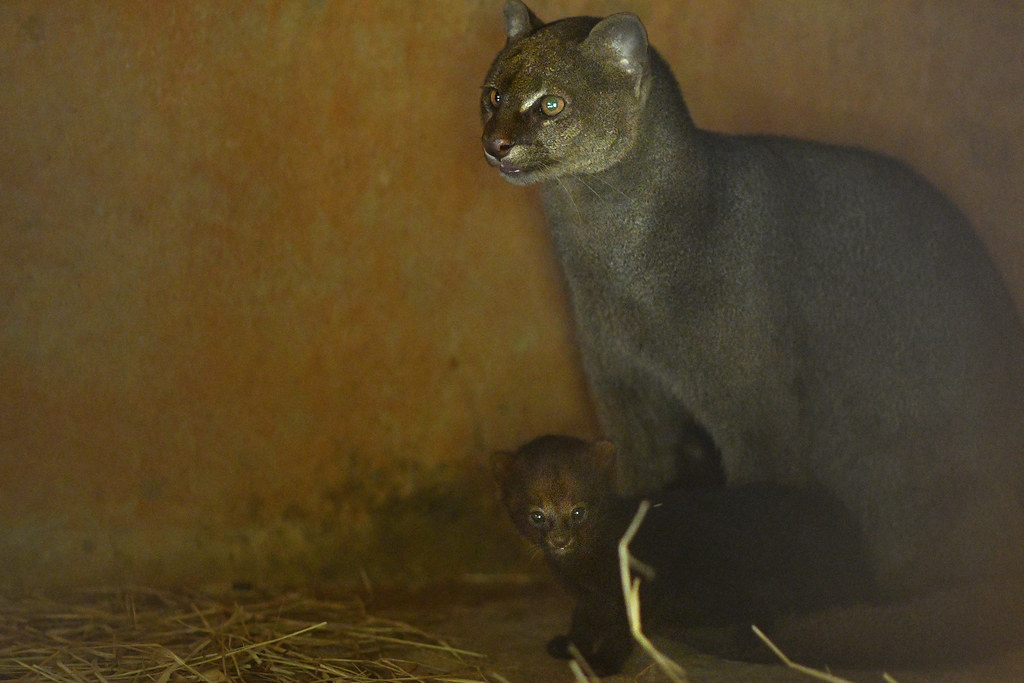Jaguarundi: (446, 7, 1015, 408), (467, 423, 872, 673)
